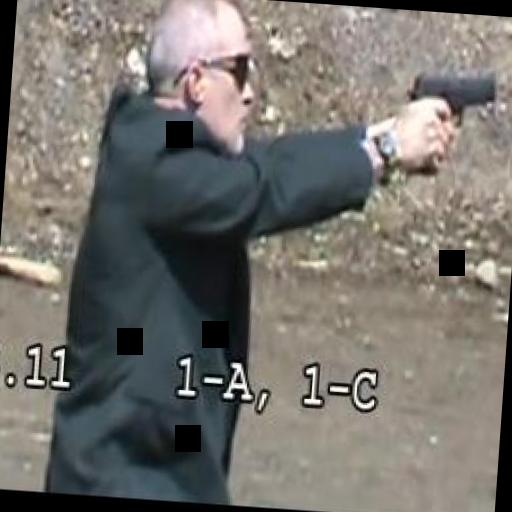Handgun: (397, 61, 499, 181)
